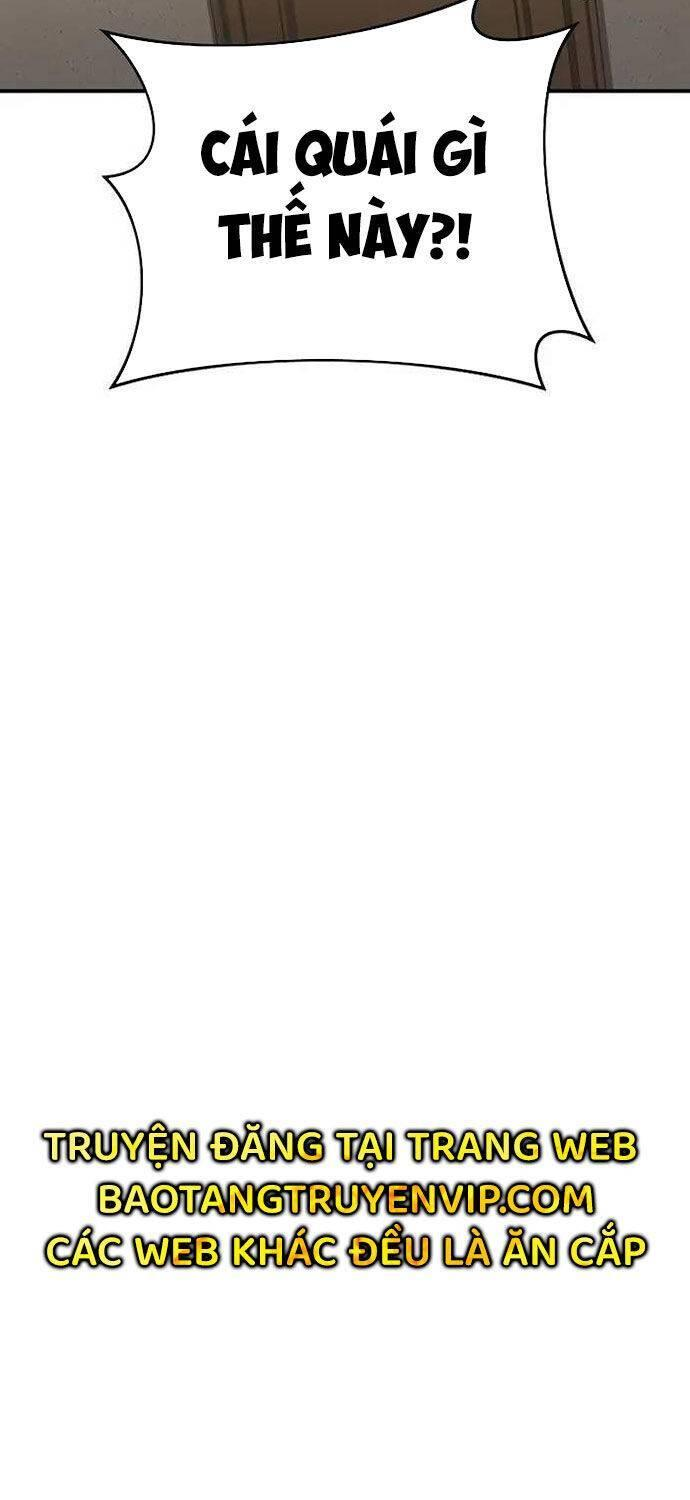quangcao: (34, 1116, 648, 1276)
